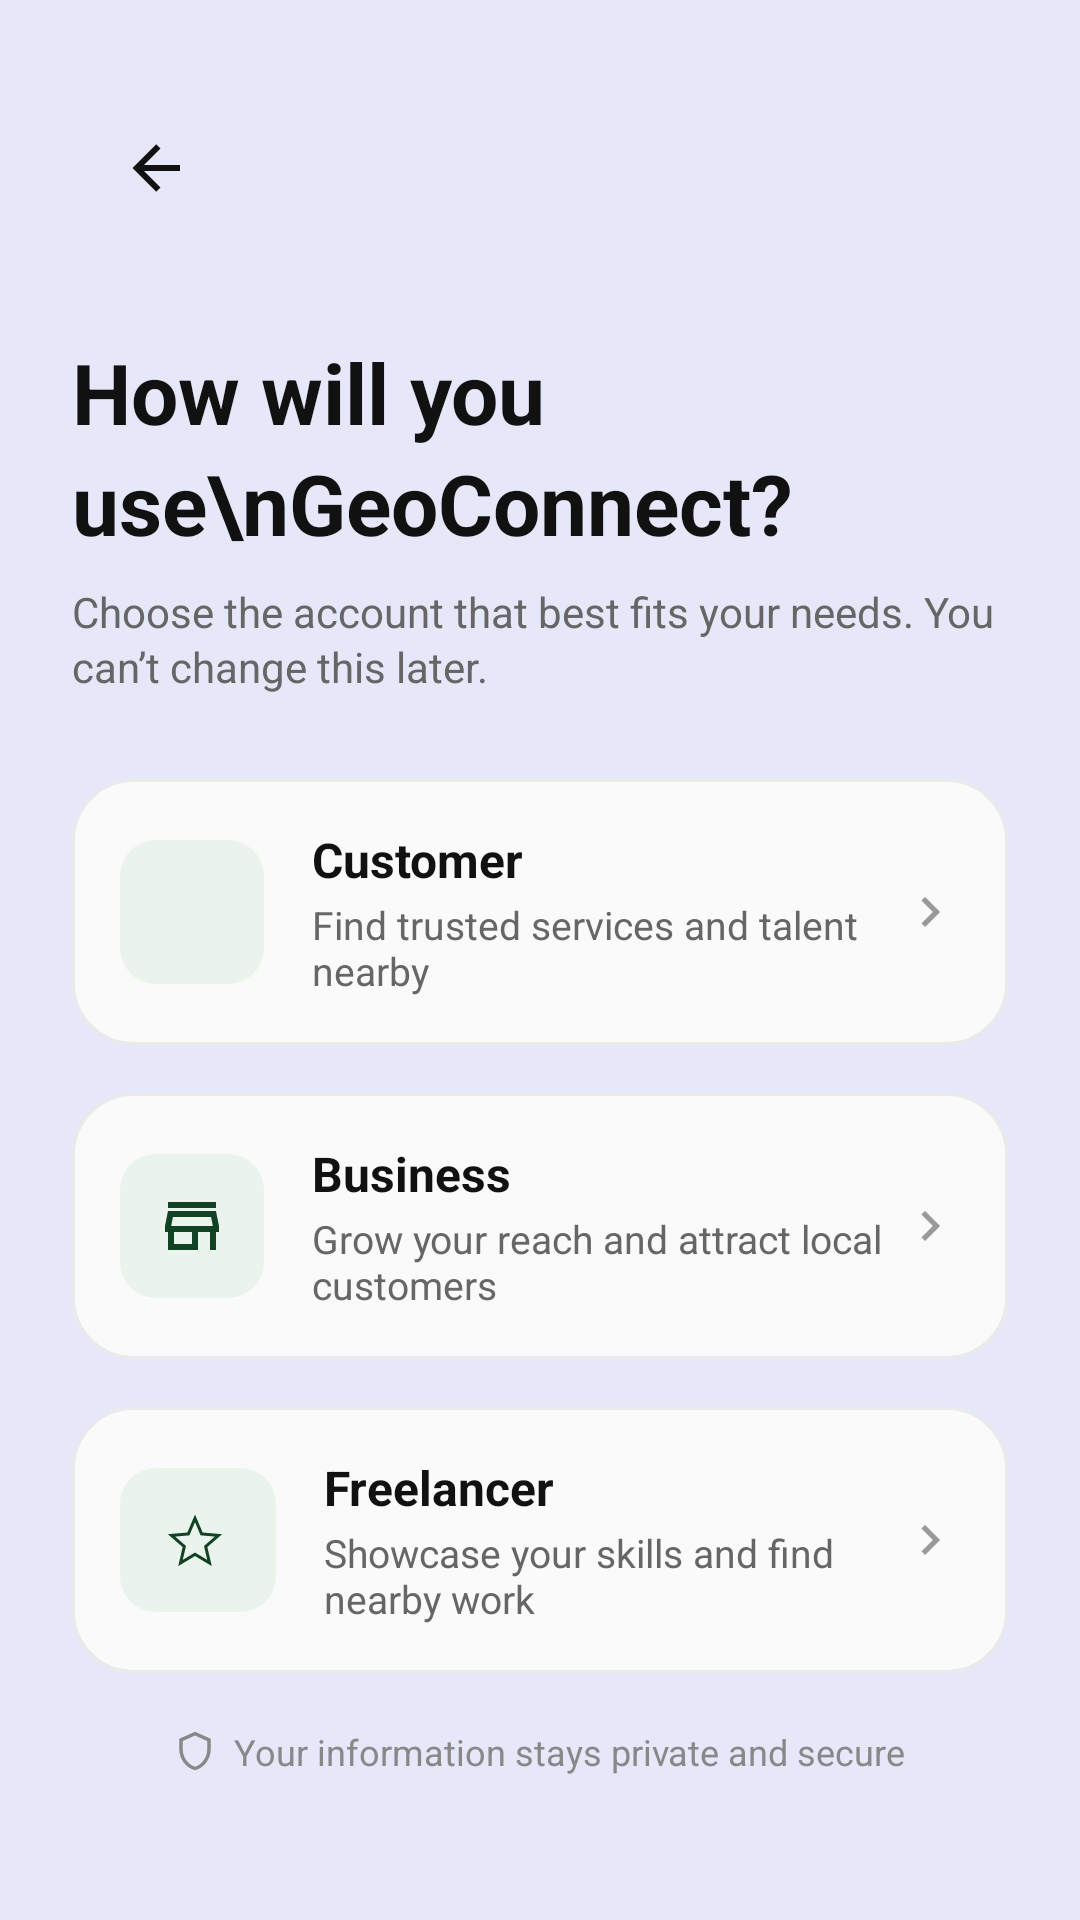

Where icons sit on this 1080px×1920px app screen, as (x1, y1, x2, y2):
Shield: (179, 1732, 211, 1770)
